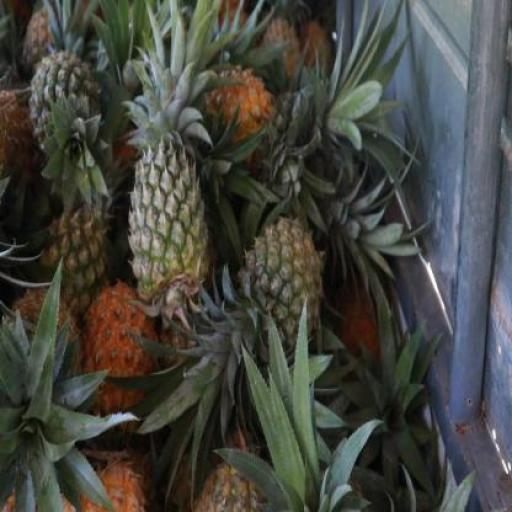Pineapple - v8 v1: (80, 281, 155, 430), (200, 63, 278, 145)
